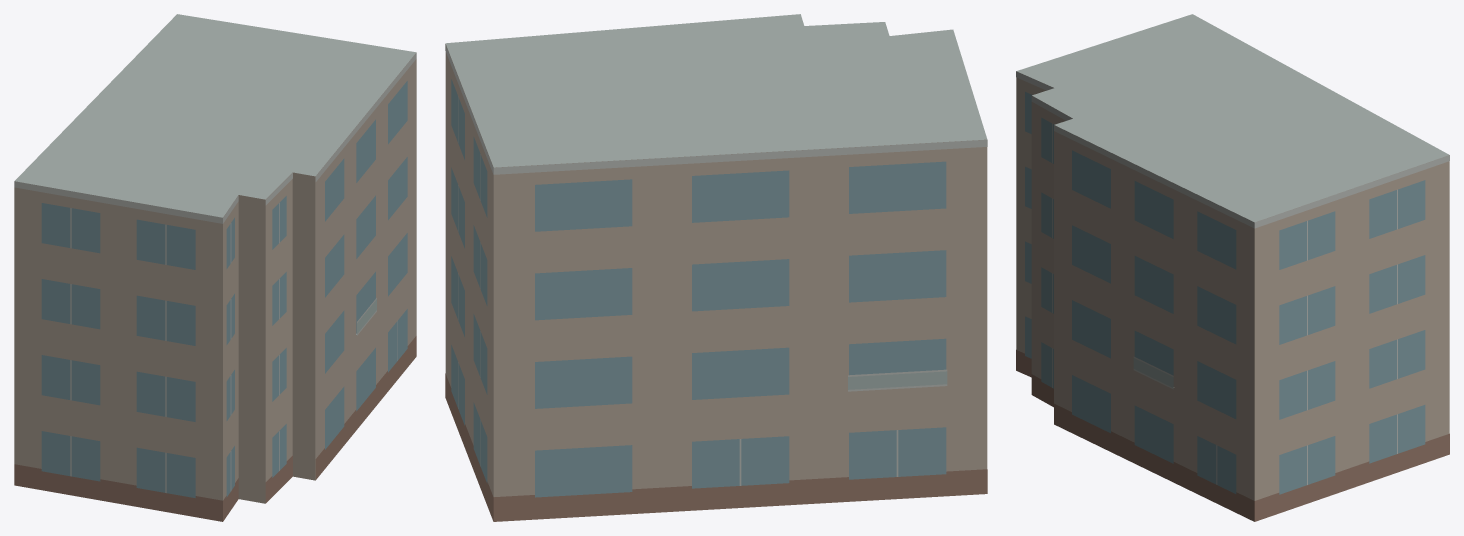
File: survey-upis-32935978.glb
3 views of the same model, side by side, from view 1: azimuth 30°, elevation 25°; view 2: azimuth 150°, elevation 25°; view 3: azimuth 270°, elevation 25° (orthographic). The views are drawn at different scales.
Visible parts, largest first — view 1: survey-upis-32935978.tmp; view 2: survey-upis-32935978.tmp; view 3: survey-upis-32935978.tmp.
Part boxes in pixels (x1,y1,x2,y2): survey-upis-32935978.tmp: (14,14,416,521); survey-upis-32935978.tmp: (445,14,987,521); survey-upis-32935978.tmp: (1016,14,1449,521).
Bounding box in the file's own units: 17.77 × 11.9 × 15.62.
